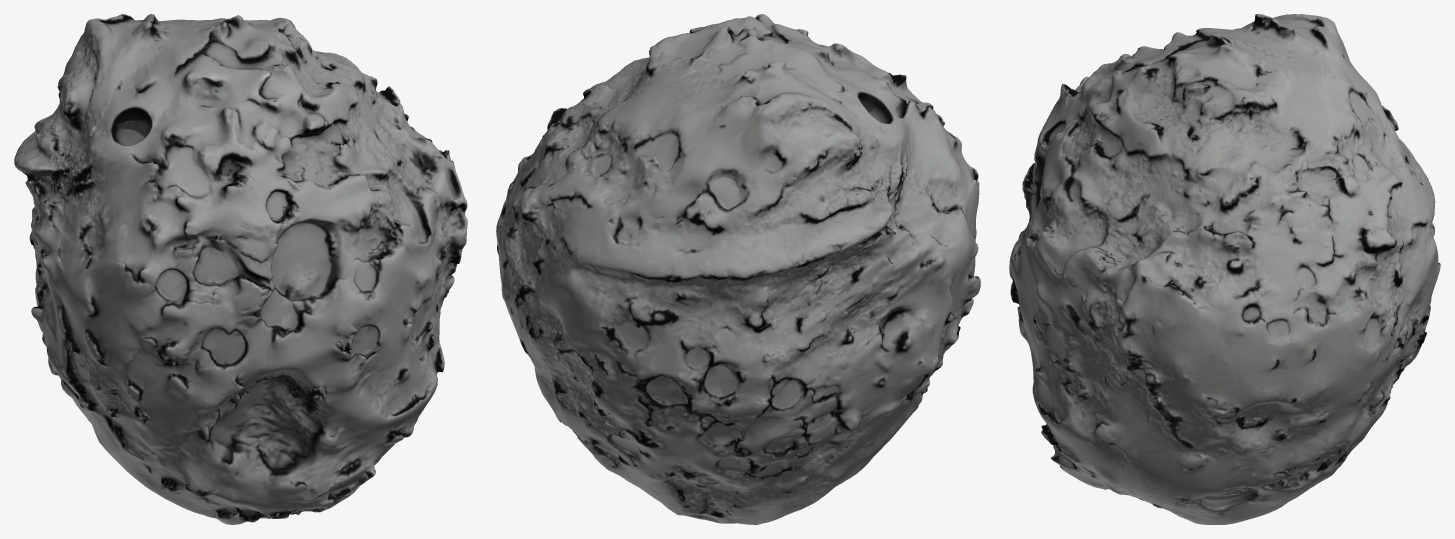
File: wild2.glb
3 views of the same model, side by side, from view 1: azimuth 30°, elevation 25°; view 2: azimuth 150°, elevation 25°; view 3: azimuth 270°, elevation 25° (orthographic). The views are drawn at different scales.
Bounding box in the file's own units: 1.63 × 1.9 × 1.54.
Materials: 1 (1 with a texture image).
